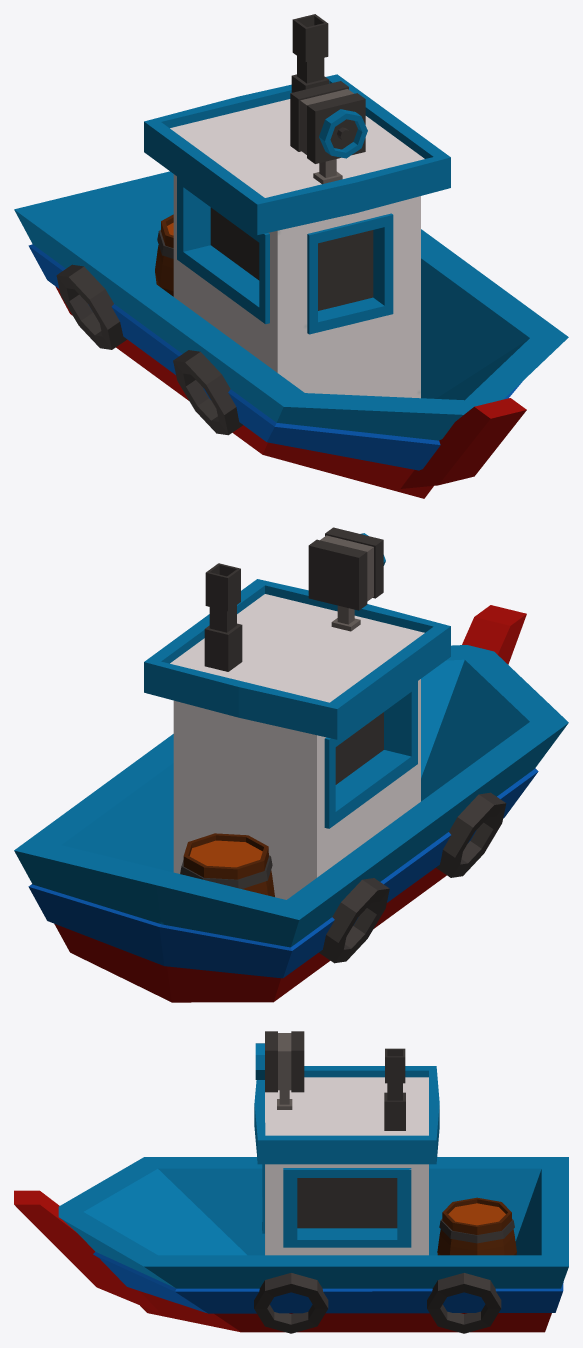
File: Ship.fbx
3 views of the same model, one above another, from view 1: azimuth 30°, elevation 25°; view 2: azimuth 150°, elevation 25°; view 3: azimuth 270°, elevation 25° (orthographic). The views are drawn at different scales.
Parts seen in each view (by area): view 1: Cube.005; view 2: Cube.005; view 3: Cube.005.
Part boxes in pixels (x1,y1,x2,y2): Cube.005: (14,14,568,498); Cube.005: (14,527,568,1002); Cube.005: (14,1031,568,1333).
Bounding box in the file's own units: 625 × 681 × 1236.
